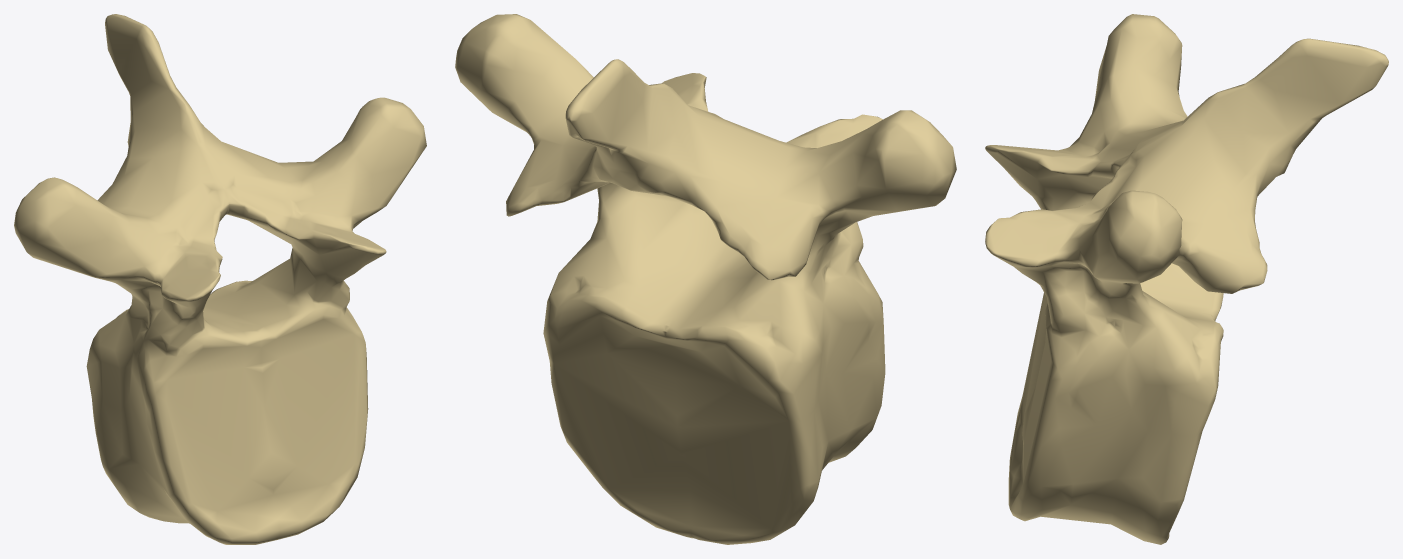
3 views of the same model, side by side, from view 1: azimuth 30°, elevation 25°; view 2: azimuth 150°, elevation 25°; view 3: azimuth 270°, elevation 25° (orthographic). The views are drawn at different scales.
Visible parts, largest first — view 1: 第九胸椎; view 2: 第九胸椎; view 3: 第九胸椎.
Boxes of the visible parts, x1,y1,x2,y2 form: 第九胸椎: (14,14,426,544); 第九胸椎: (455,14,956,544); 第九胸椎: (985,14,1388,544).
Bounding box in the file's own units: 0.1065 × 0.1115 × 0.0834.
